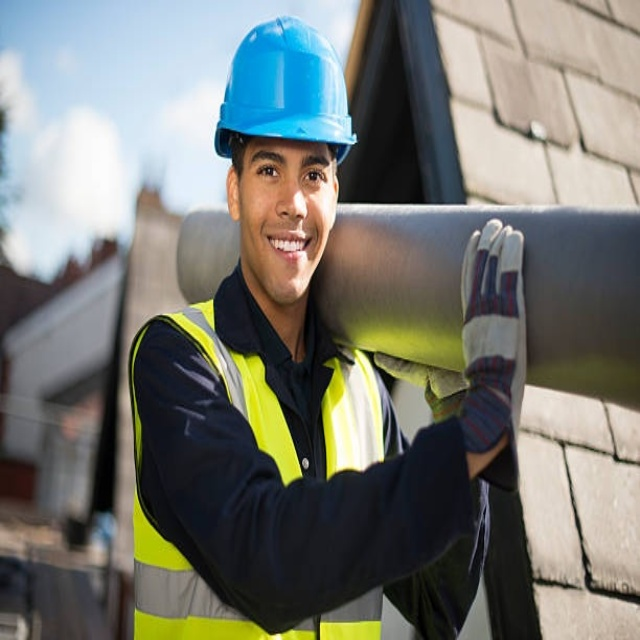Guantes: (450, 216, 532, 504)
Sin_gafas: (247, 147, 330, 199)
Sin_mascara: (256, 220, 315, 282)
